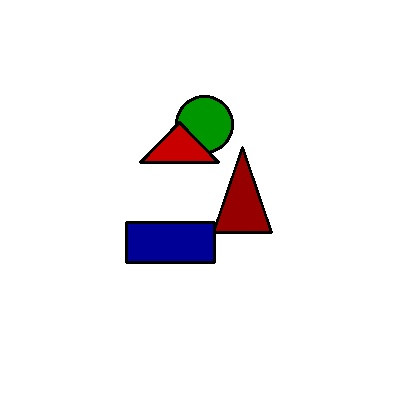circle: (170, 96, 239, 153)
rectangle: (126, 222, 214, 262)
triangle: (213, 147, 271, 232), (140, 122, 218, 162)
